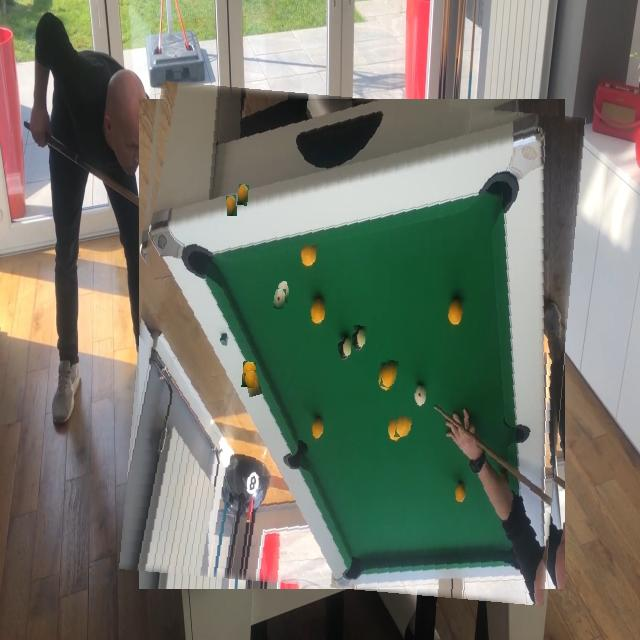Ball: (381, 360, 398, 388), (244, 371, 261, 398), (395, 416, 412, 439), (352, 326, 366, 352), (372, 246, 387, 269), (273, 288, 286, 309), (226, 195, 237, 216)
Billiard table: (129, 90, 576, 598)
